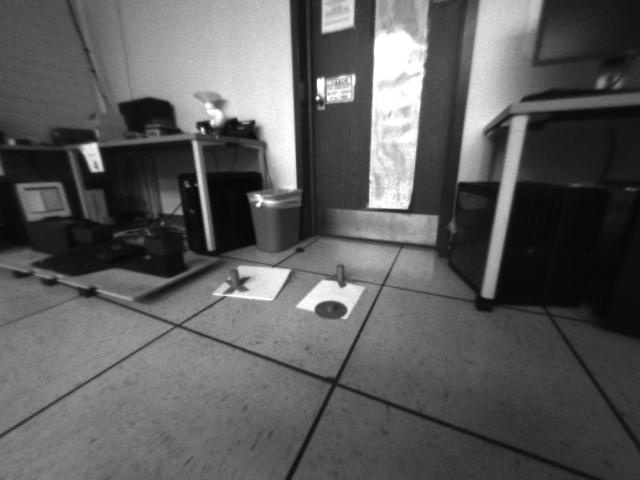X: (223, 265, 252, 295), (325, 264, 358, 288)
